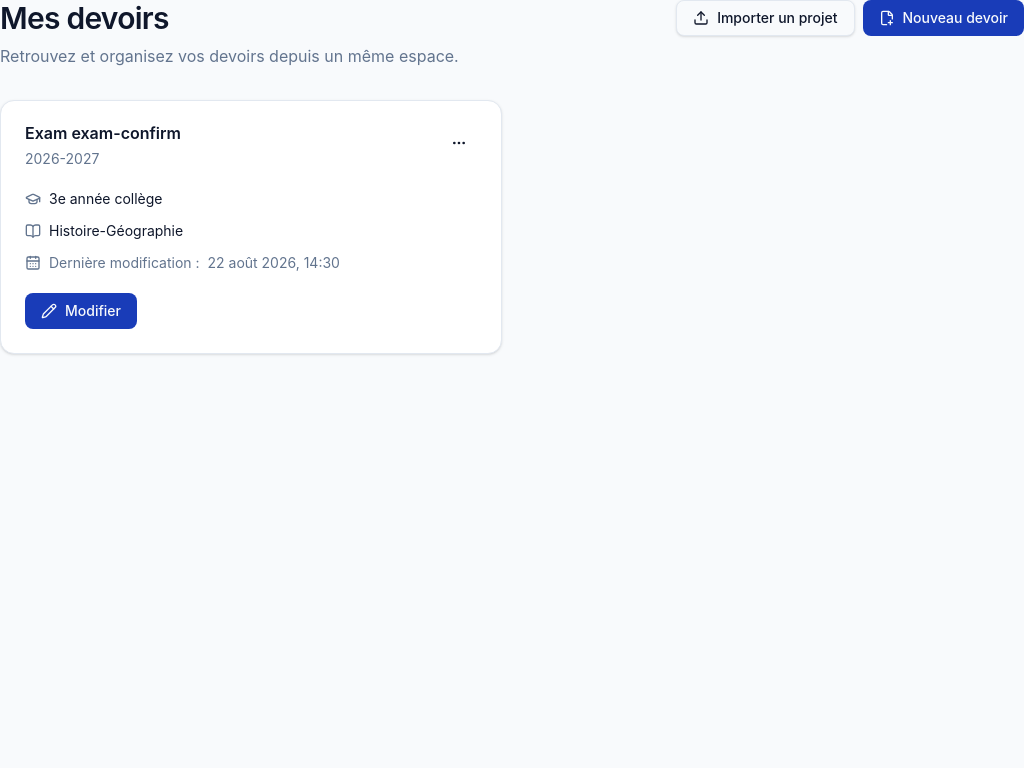
Test: DashboardPage › deletes the Exam after confirmation and updates local state
expect the text "Exam exam-confirm" is shown: met, box [25, 125, 181, 141]
Step 1. Click the button named "Actions pour Exam exam-confirm" → (459, 143), box [441, 125, 477, 161]
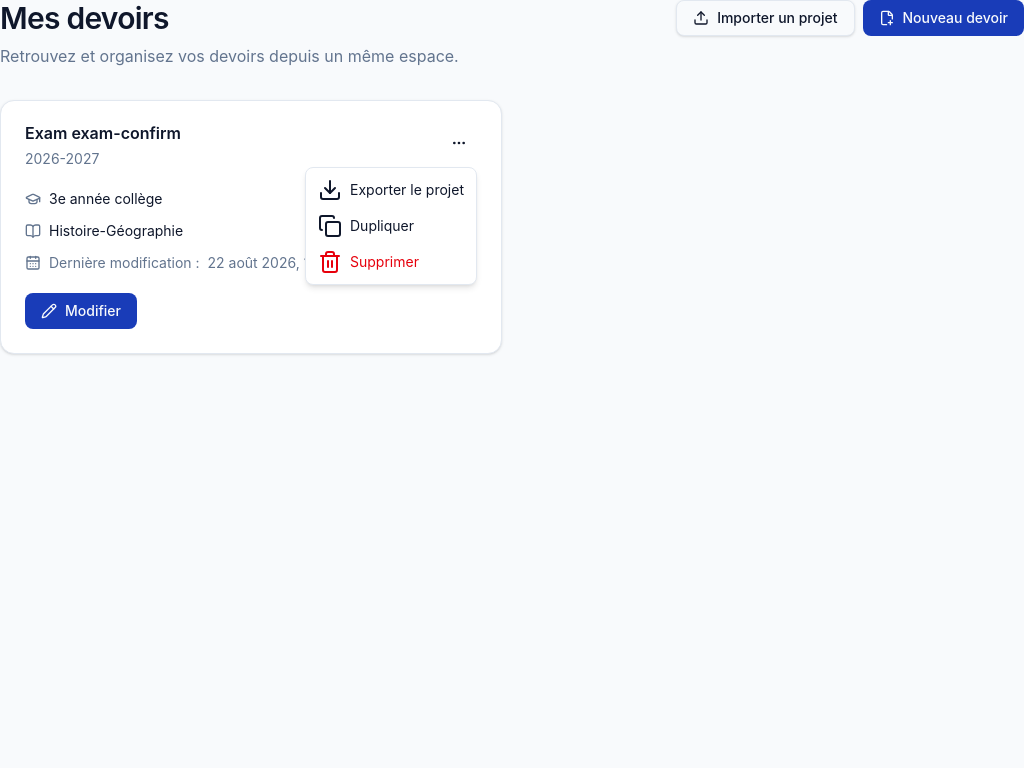
Step 2. Click the menu item "Supprimer" → (368, 262), box [318, 250, 419, 274]
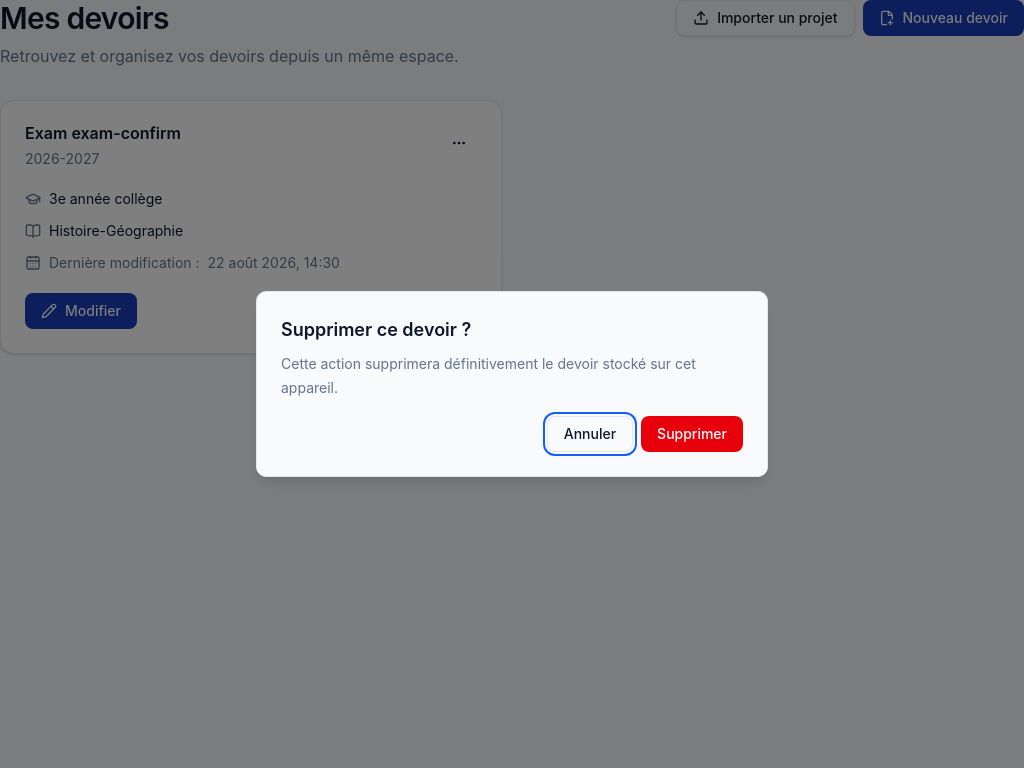
Step 3. Click the button "Supprimer" → (692, 434), box [641, 416, 743, 452]
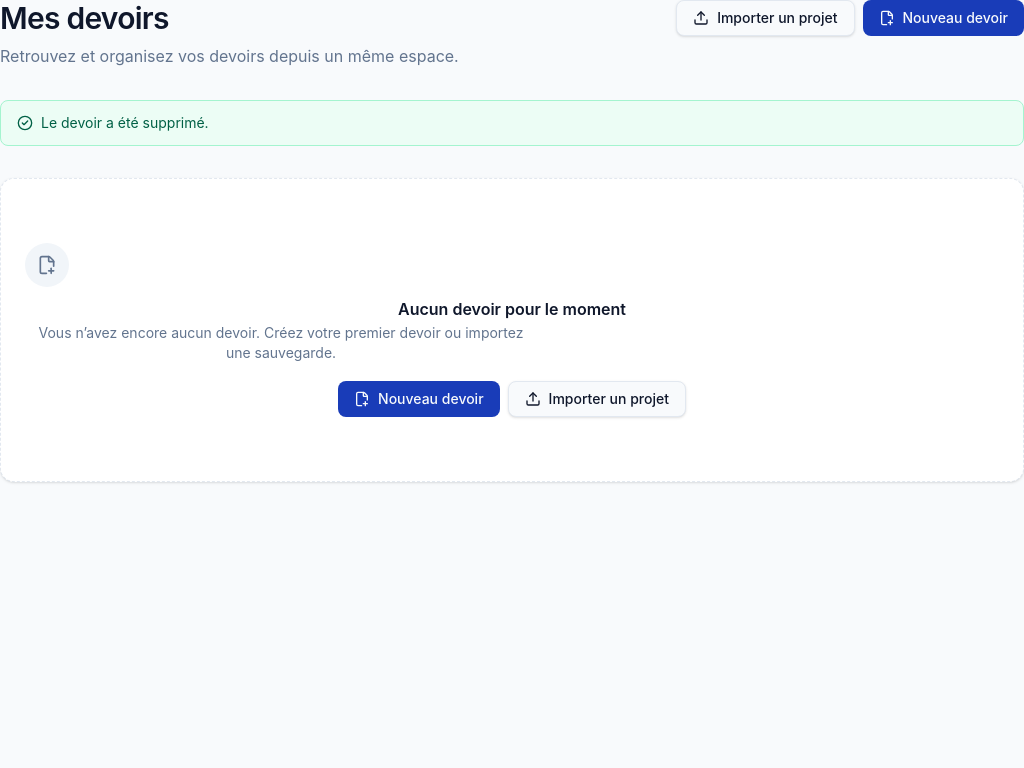
expect the text "Le devoir a été supprimé." is shown: met, box [41, 113, 209, 133]
expect the text "Exam exam-confirm" is gone: met
